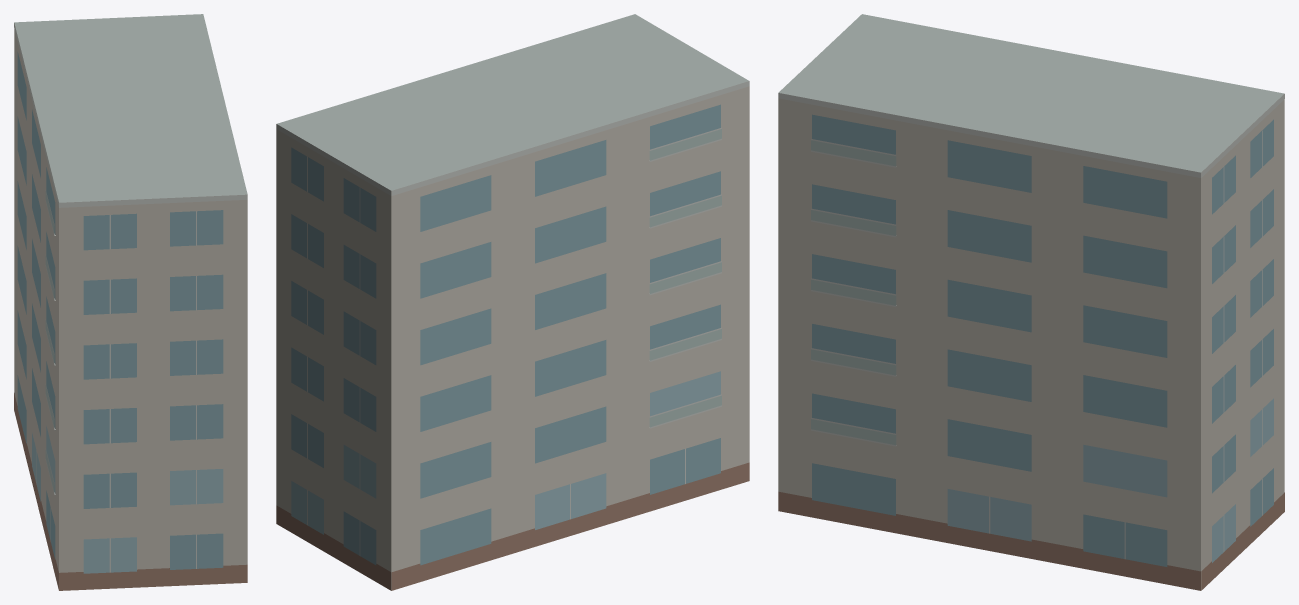
Rendered from survey-upis-32563559.glb.
3 views of the same model, side by side, from view 1: azimuth 30°, elevation 25°; view 2: azimuth 150°, elevation 25°; view 3: azimuth 270°, elevation 25° (orthographic). The views are drawn at different scales.
Visible parts, largest first — view 1: survey-upis-32563559.tmp; view 2: survey-upis-32563559.tmp; view 3: survey-upis-32563559.tmp.
Part boxes in pixels (<box>): survey-upis-32563559.tmp: <box>14,14,247,590</box>; survey-upis-32563559.tmp: <box>276,14,749,590</box>; survey-upis-32563559.tmp: <box>778,14,1284,590</box>.
Bounding box in the file's own units: 15.06 × 18.5 × 20.31.
